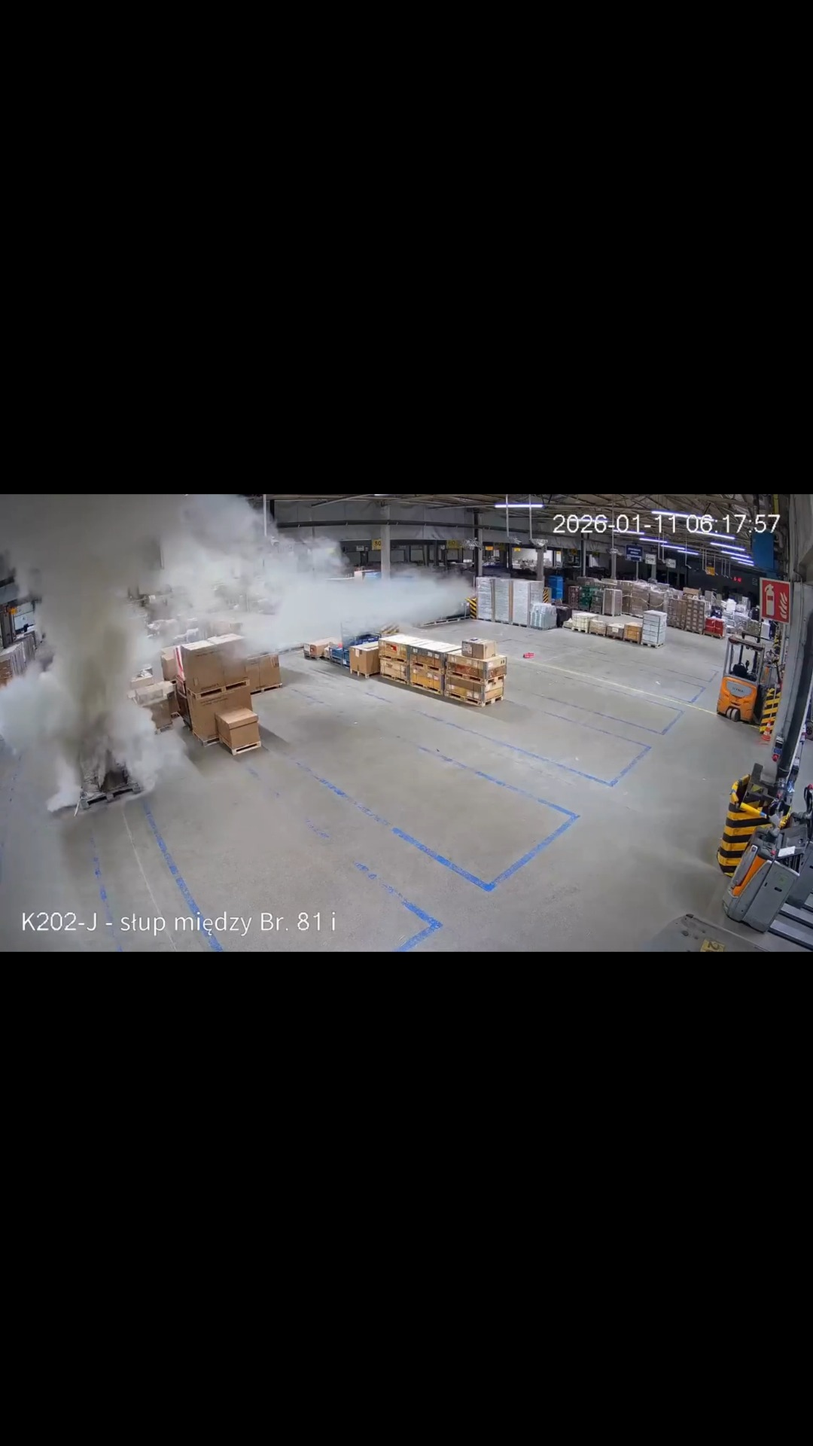smoke: (15, 491, 369, 750)
